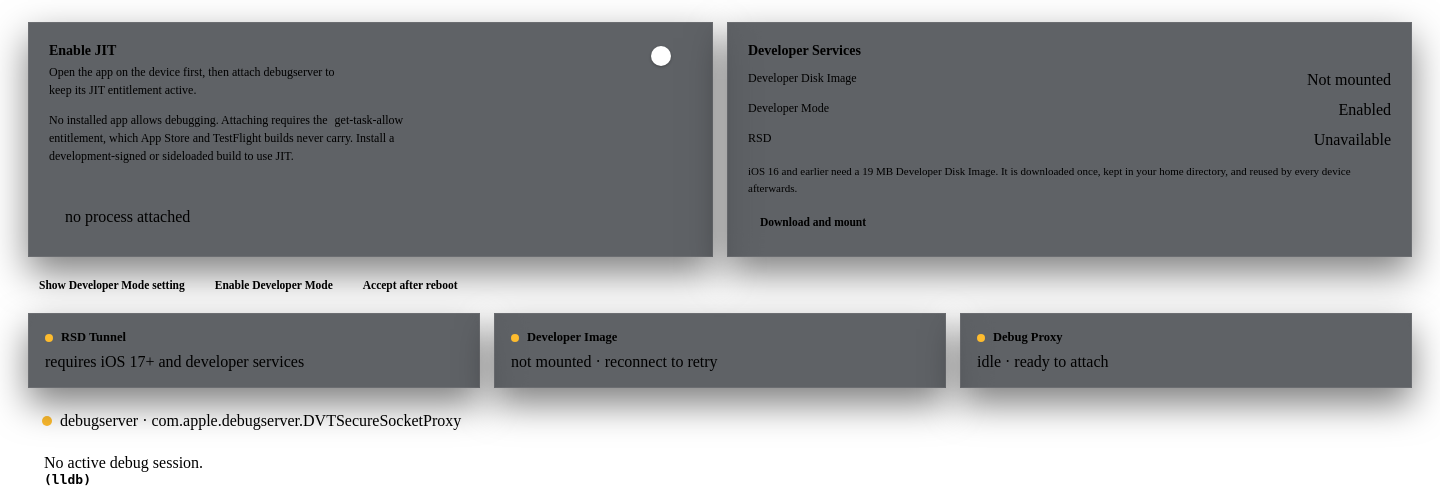
Test case: developer disk image download › sends the selected device and reports the installed image
Click the button "Download and mount": (813, 222) [748,208,878,236]
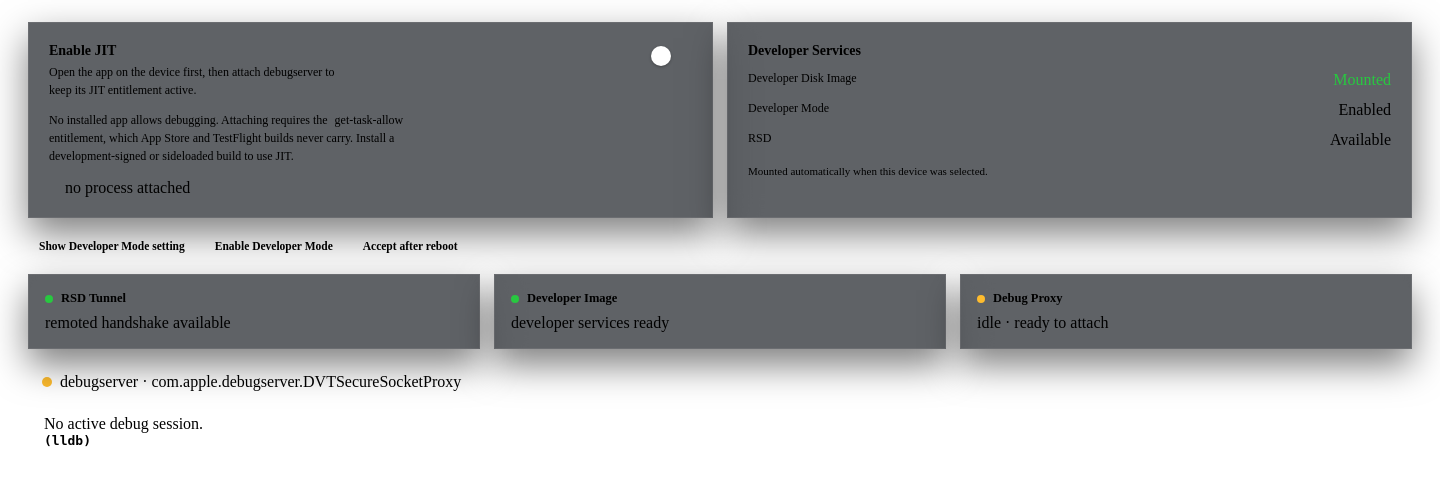
Expected: the button "Download and mount" is gone
